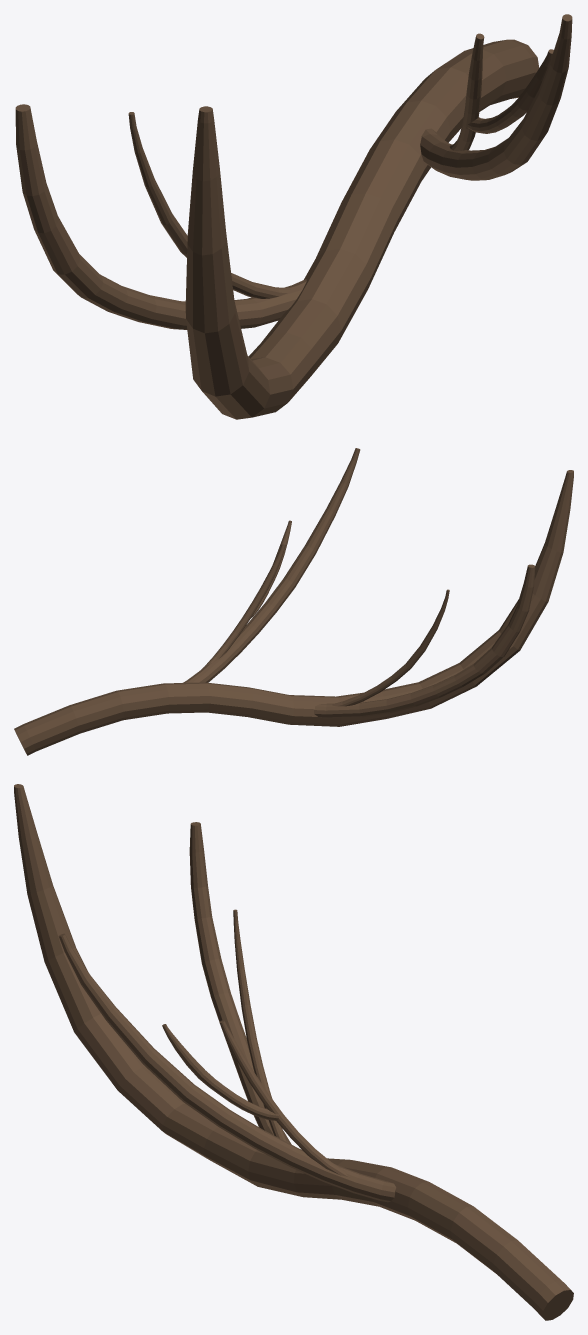
The model's file is wood2.glb.
3 views of the same model, one above another, from view 1: azimuth 30°, elevation 25°; view 2: azimuth 150°, elevation 25°; view 3: azimuth 270°, elevation 25° (orthographic). The views are drawn at different scales.
Visible parts, largest first — view 1: twig main, twig1, twig2, twig4, twig3, twig5; view 2: twig main, twig1, twig2, twig4, twig3; view 3: twig main, twig2, twig1, twig3, twig4, twig5.
Boxes of the visible parts, bbox=[...] form: twig main: bbox=[185, 39, 539, 419]; twig1: bbox=[15, 104, 306, 329]; twig2: bbox=[420, 14, 572, 180]; twig4: bbox=[128, 112, 291, 298]; twig3: bbox=[449, 33, 484, 150]; twig5: bbox=[466, 49, 553, 133]; twig main: bbox=[14, 470, 573, 755]; twig1: bbox=[314, 564, 535, 718]; twig2: bbox=[183, 448, 360, 682]; twig4: bbox=[332, 589, 449, 706]; twig3: bbox=[203, 544, 285, 667]; twig main: bbox=[14, 784, 573, 1320]; twig2: bbox=[58, 933, 396, 1202]; twig1: bbox=[189, 822, 291, 1144]; twig3: bbox=[219, 1020, 349, 1177]; twig4: bbox=[233, 909, 287, 1141]; twig5: bbox=[162, 1024, 278, 1120].
Size of the model in its own units: 0.9919 by 0.5436 by 0.908.
